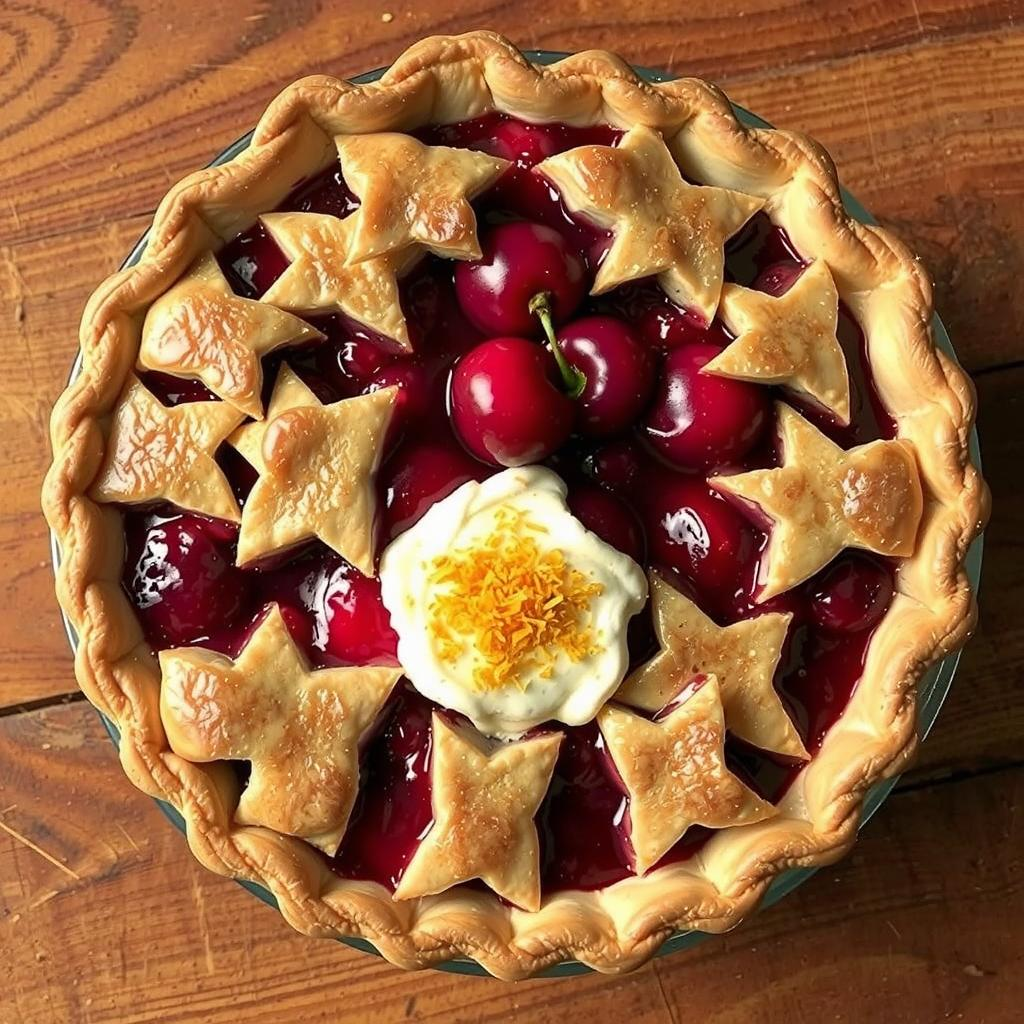pie: (37, 33, 1003, 987)
